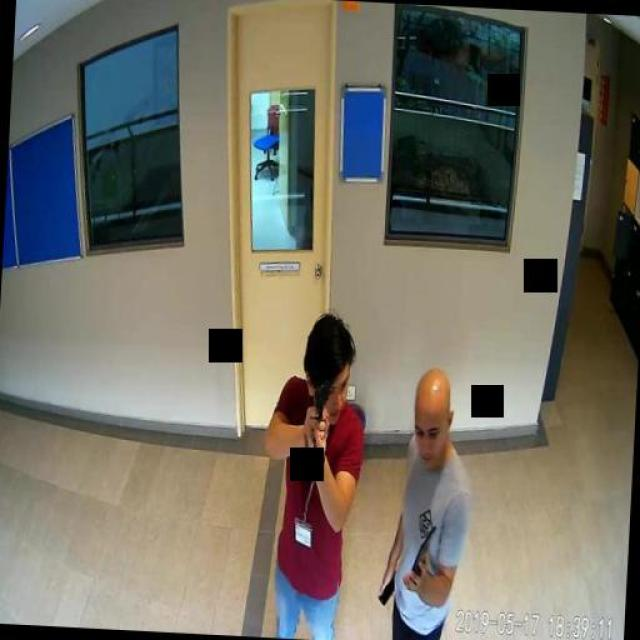gun: (311, 376, 329, 436)
